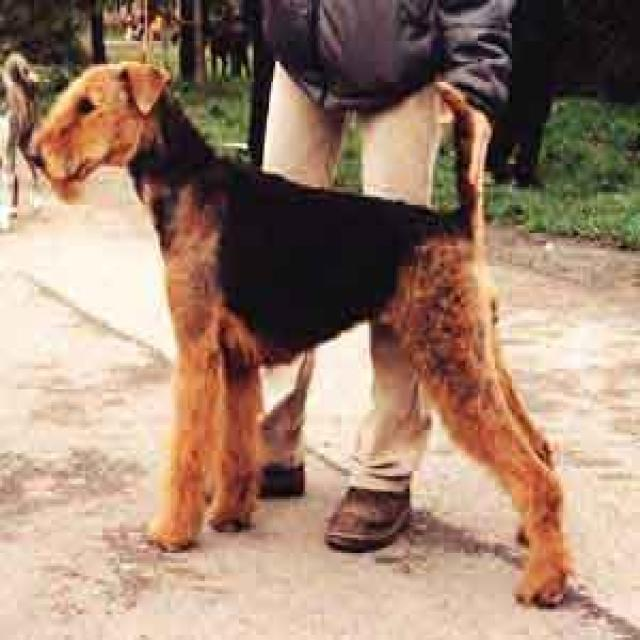airedale: (22, 54, 580, 612)
